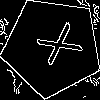X: (27, 22, 83, 73)
